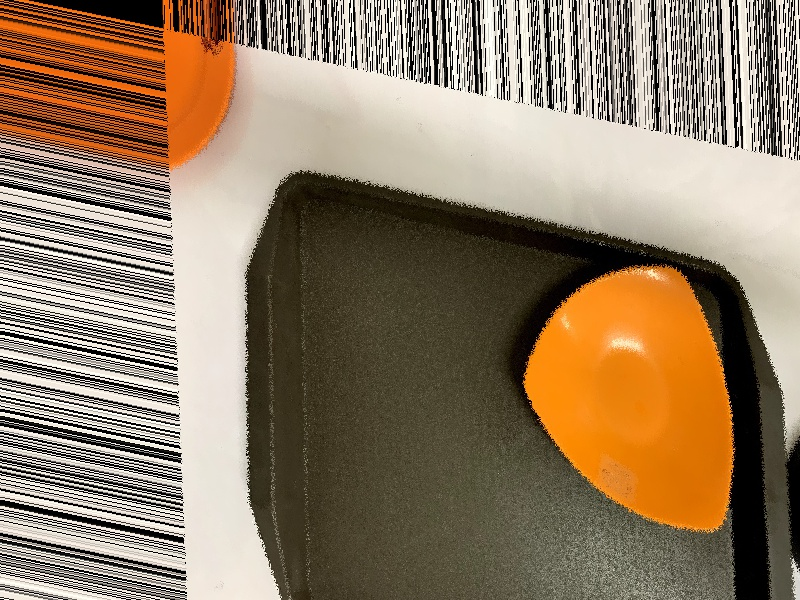dish11: (509, 226, 740, 544)
